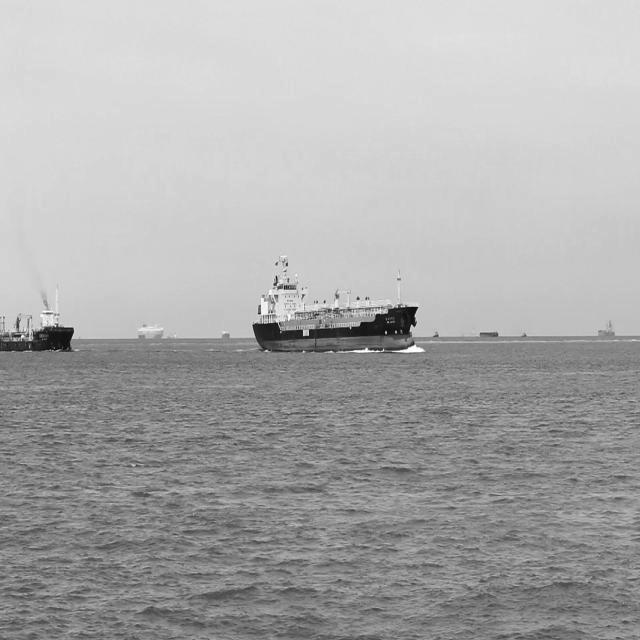ship: (250, 255, 418, 353), (0, 280, 76, 352), (136, 322, 165, 341), (598, 316, 618, 341)
